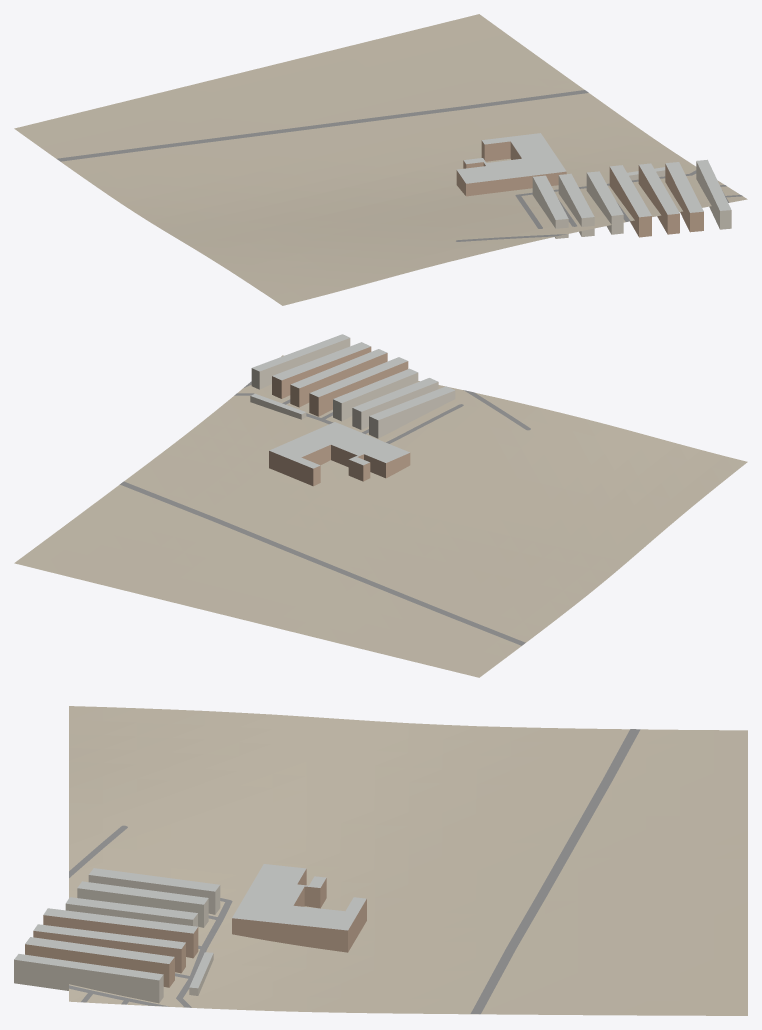
Rendered from bolak_-7_-14.glb.
The picture shows the model from 3 angles, top to bottom: view 1: azimuth 30°, elevation 25°; view 2: azimuth 150°, elevation 25°; view 3: azimuth 270°, elevation 25°; orthographic projection. The views are drawn at different scales.
Parts seen in each view (by area): view 1: Yer_Tuproq-col, Tom_Shifer, Devor_Gisht-col, Yol_Mahalla-col, Devor_Suvoq-col; view 2: Yer_Tuproq-col, Tom_Shifer, Devor_Gisht-col, Devor_Suvoq-col, Yol_Mahalla-col; view 3: Yer_Tuproq-col, Tom_Shifer, Devor_Gisht-col, Devor_Suvoq-col, Yol_Mahalla-col.
Part boxes in pixels (box(x1,y1,x2,y2)): Yer_Tuproq-col: box(14, 14, 747, 305); Tom_Shifer: box(457, 133, 731, 219); Devor_Gisht-col: box(456, 140, 703, 237); Yol_Mahalla-col: box(57, 90, 742, 241); Devor_Suvoq-col: box(532, 161, 731, 238); Yer_Tuproq-col: box(14, 355, 747, 677); Tom_Shifer: box(251, 334, 454, 468); Devor_Gisht-col: box(269, 346, 410, 486); Devor_Suvoq-col: box(250, 338, 455, 438); Yol_Mahalla-col: box(120, 381, 530, 645); Yer_Tuproq-col: box(69, 706, 747, 1015); Tom_Shifer: box(14, 864, 366, 988); Devor_Gisht-col: box(25, 869, 366, 987); Devor_Suvoq-col: box(14, 875, 220, 1003); Yol_Mahalla-col: box(69, 729, 640, 1014).
Size of what is drawn, in the model's own units: 400 by 23.91 by 432.
